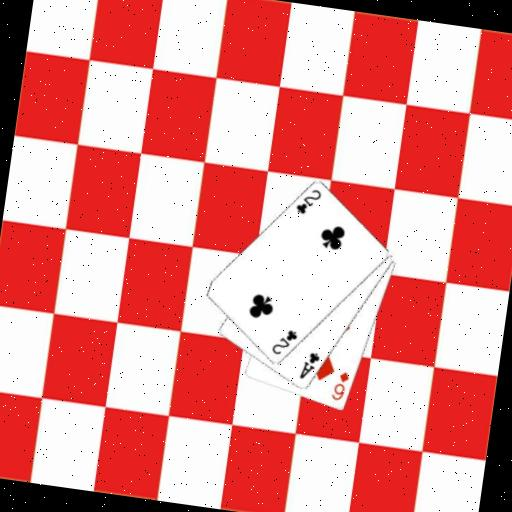2C: (269, 324, 300, 358), (292, 184, 323, 218)
6D: (329, 368, 352, 404)
AC: (297, 348, 323, 383)
